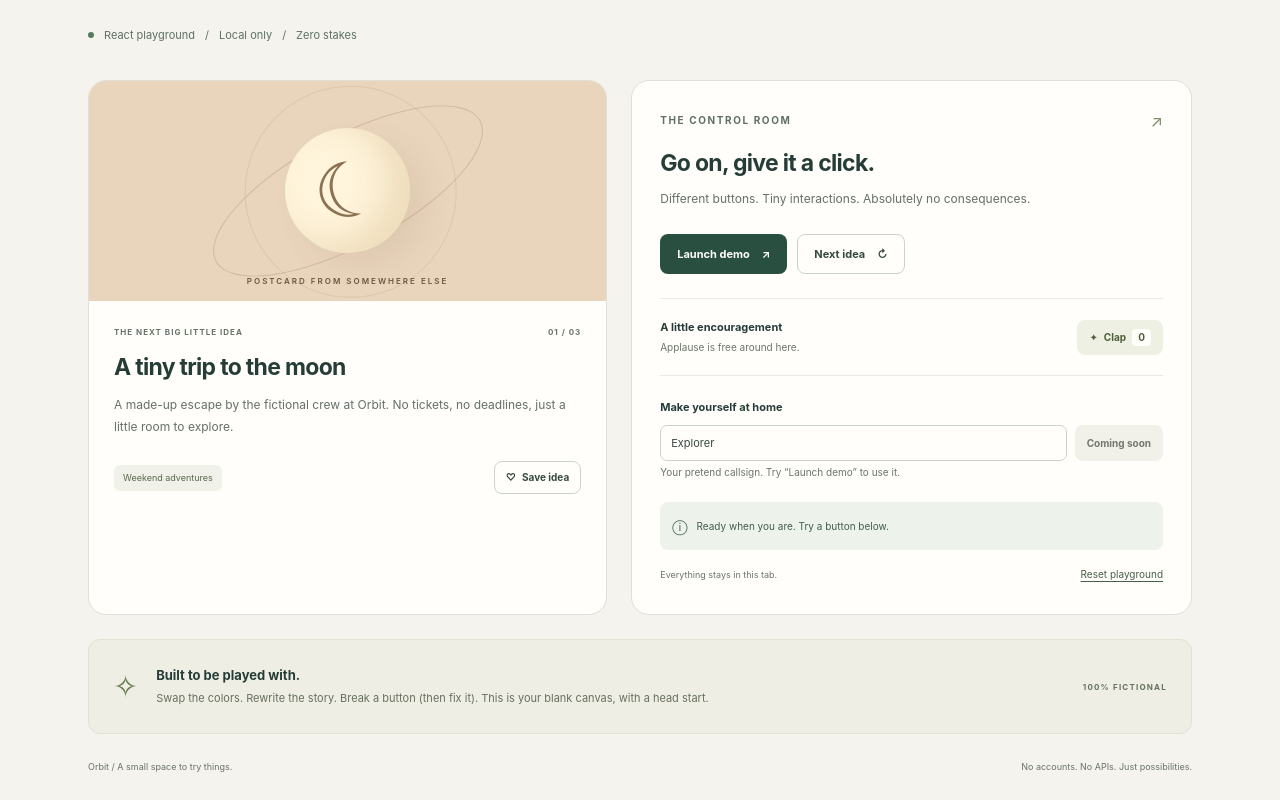
Test: Orbit playground › cycles through all ideas and clears the previous saved state
(page scrolled)
Click the button "♡ Save idea": (538,478) [494,461,581,494]
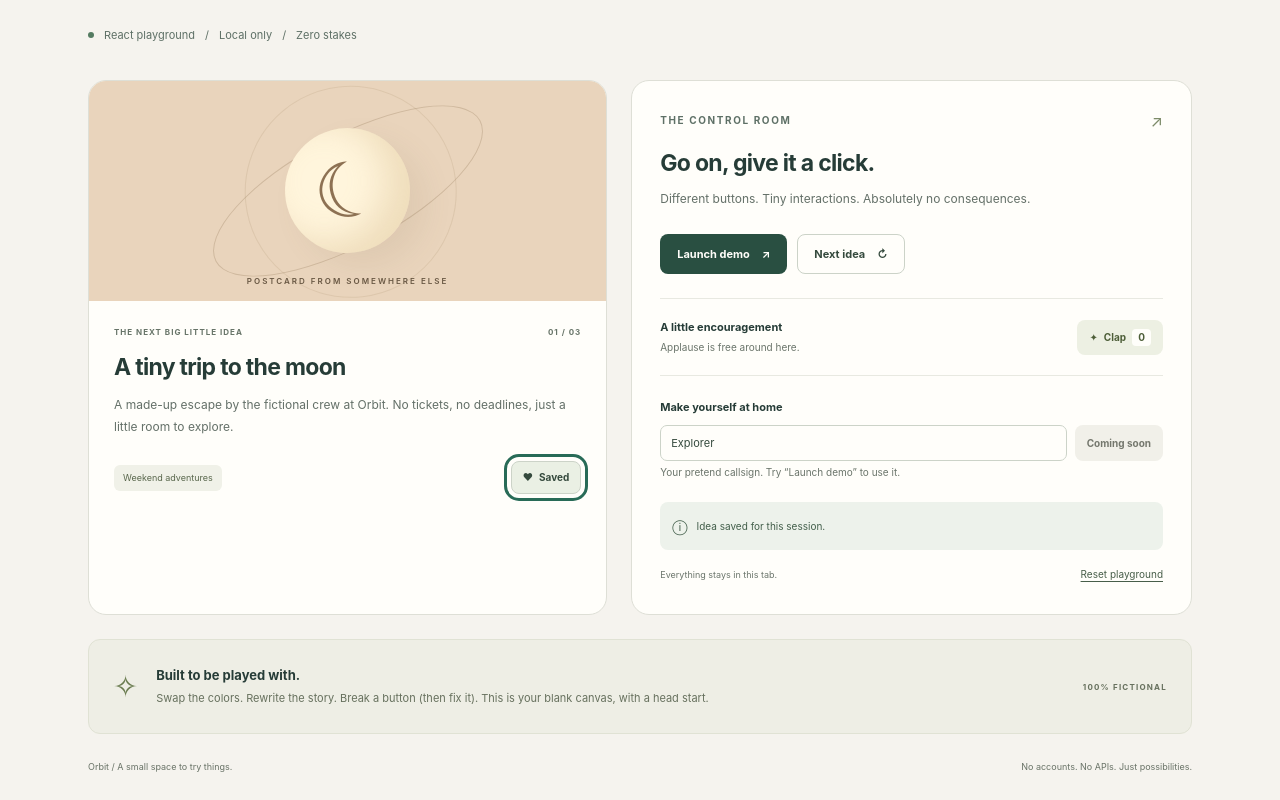
Click the button "Next idea ↻": (851,254) [797,234,905,274]
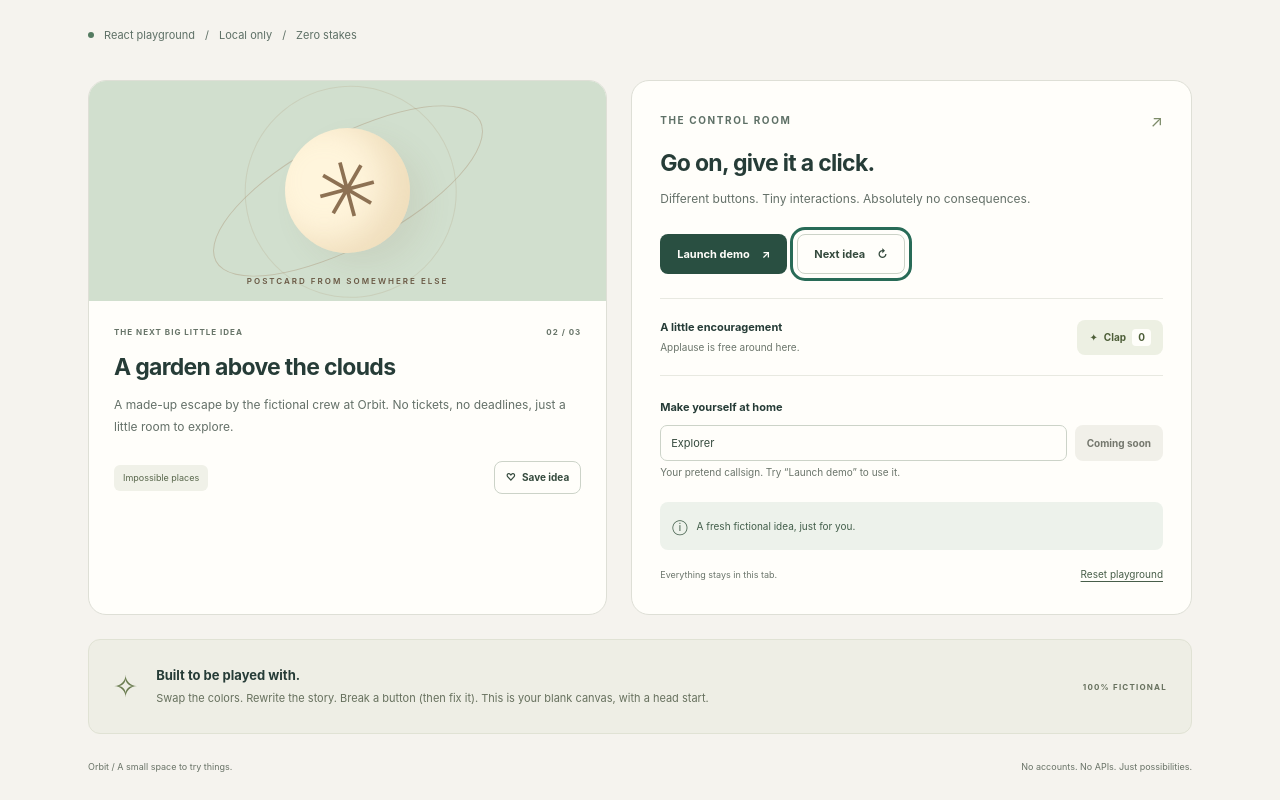
Result: the heading "A garden above the clouds" is shown at [114,353,395,381]
Click the button "Next idea ↻": (851,254) [797,234,905,274]
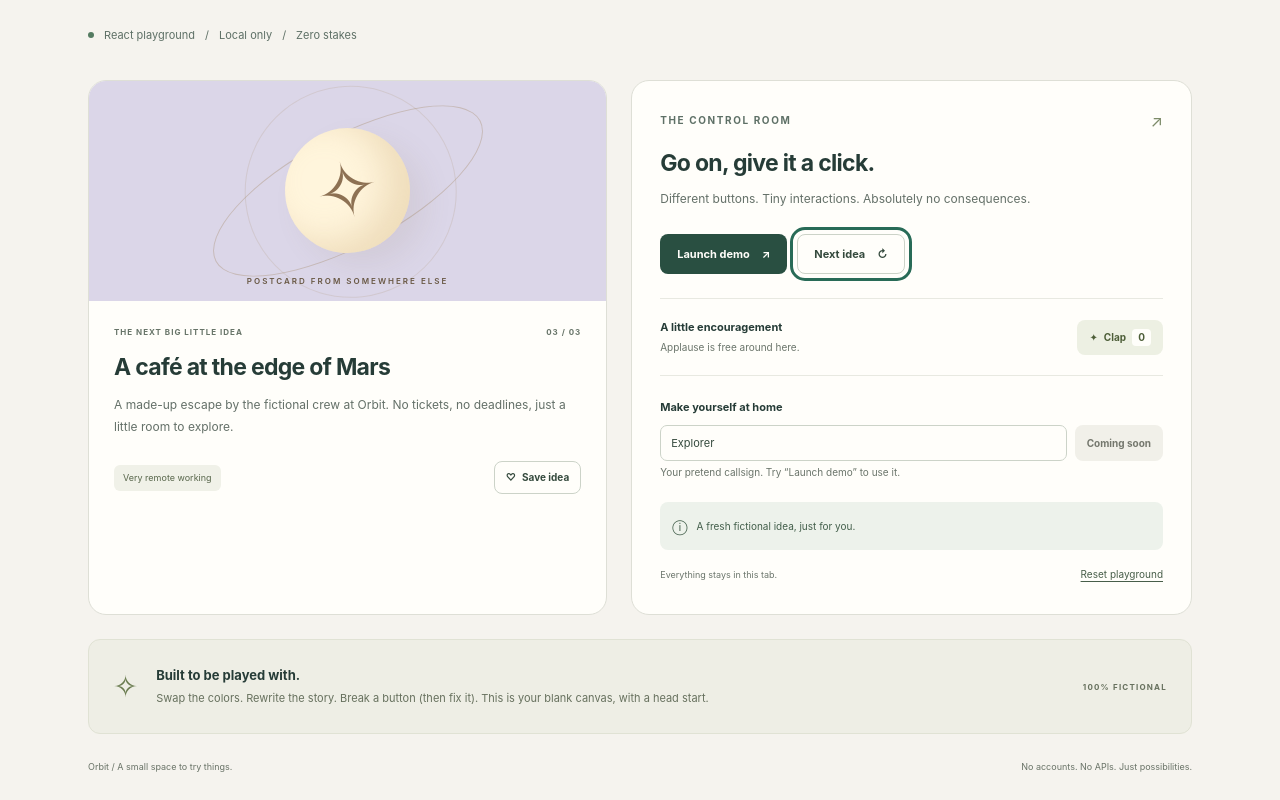
Result: the heading "A café at the edge of Mars" is shown at [114,353,390,381]
Click the button "Next idea ↻": (851,254) [797,234,905,274]
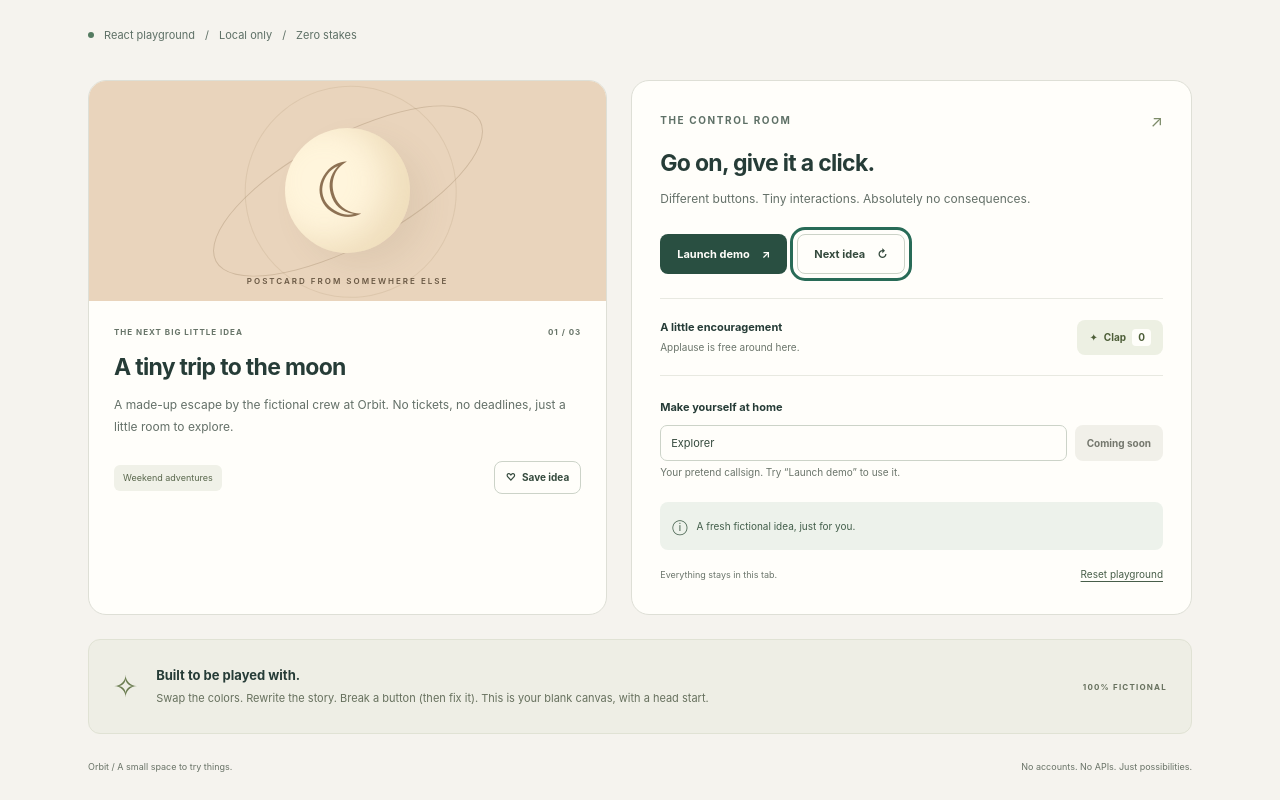
Result: the message shows "A fresh fictional idea" at [696,520,855,532]
Result: the heading "A tiny trip to the moon" is shown at [114,353,346,381]
